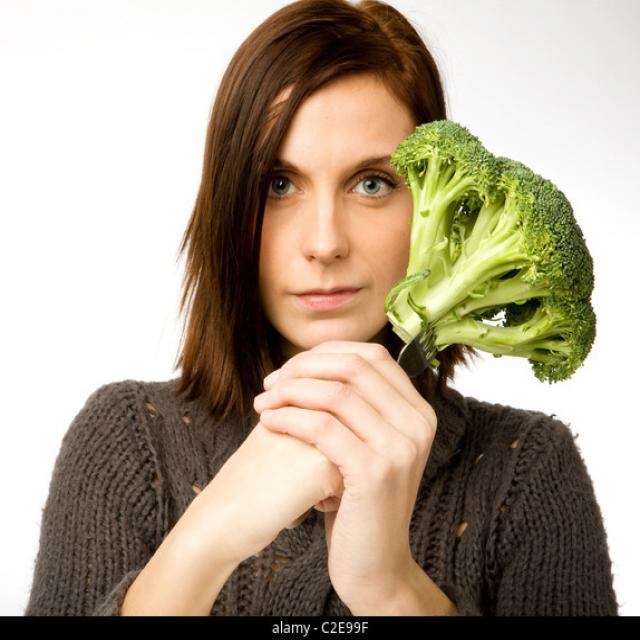broccoli: (386, 116, 599, 392)
